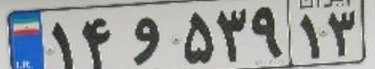character: (214, 4, 250, 69), (250, 2, 286, 64), (181, 5, 216, 67), (126, 11, 163, 68), (78, 15, 115, 69), (325, 10, 359, 59), (47, 16, 78, 69), (294, 12, 326, 61)
